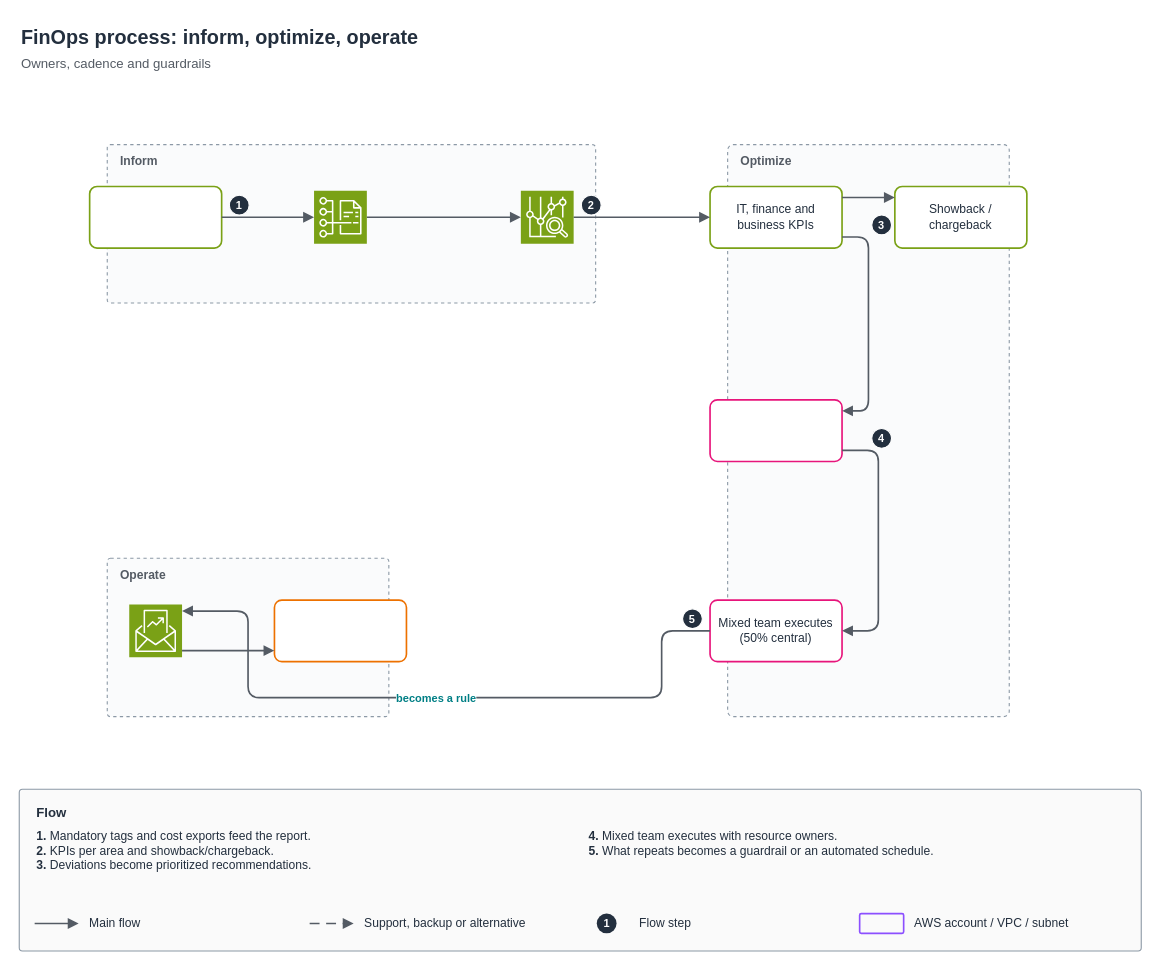
Image size: 1161x970. Some labels were removed from this diagram. The centre of each missing label's shape, as x and y in pixels:
"Export CUR / FOCUS" goes at point 340,217.
"Guardrails SCP and budgets" goes at point 155,630.
"Mandatory tag policy" goes at point 155,216.
"Recommendation backlog" goes at point 775,430.
"Shutdown schedule" goes at point 340,630.
"Weekly cost report" goes at point 547,217.
